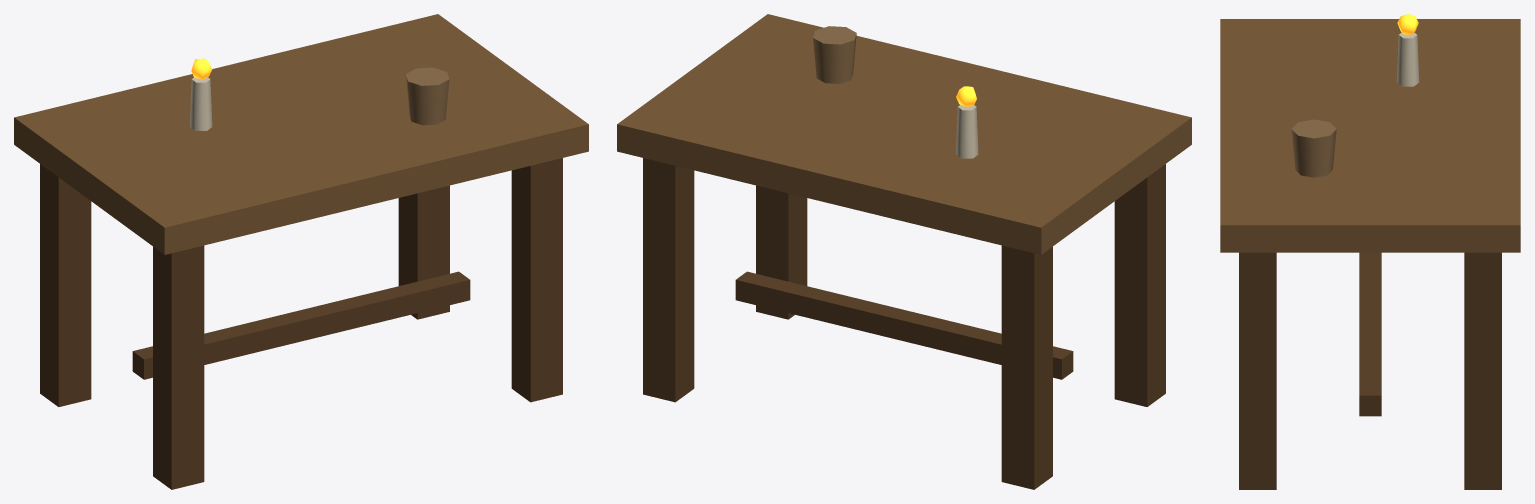
Rendered from table.glb.
The picture shows the model from 3 angles, left to right: view 1: azimuth 30°, elevation 25°; view 2: azimuth 150°, elevation 25°; view 3: azimuth 270°, elevation 25°; orthographic projection.
Parts seen in each view (by area): view 1: table_top, table_leg (×4), table_stretcher, table_mug, table_candle; view 2: table_top, table_leg (×4), table_stretcher, table_mug, table_candle; view 3: table_top, table_leg (×2), table_stretcher, table_mug, table_candle, table_candle_flame.
Part boxes in pixels (box(x1,y1,x2,y2)): table_top: box(14, 14, 588, 254); table_leg (×4): box(40, 158, 562, 489); table_stretcher: box(132, 271, 470, 379); table_mug: box(406, 67, 449, 125); table_candle: box(189, 77, 212, 130); table_top: box(617, 14, 1191, 254); table_leg (×4): box(643, 158, 1165, 489); table_stretcher: box(735, 271, 1073, 379); table_mug: box(813, 26, 856, 83); table_candle: box(956, 105, 978, 158); table_top: box(1220, 19, 1520, 252); table_leg (×2): box(1239, 252, 1501, 489); table_stretcher: box(1359, 252, 1381, 416); table_mug: box(1291, 119, 1336, 177); table_candle: box(1396, 32, 1419, 86); table_candle_flame: box(1397, 14, 1418, 34).
Size of the model in its own units: 1.3 by 1 by 0.8.
